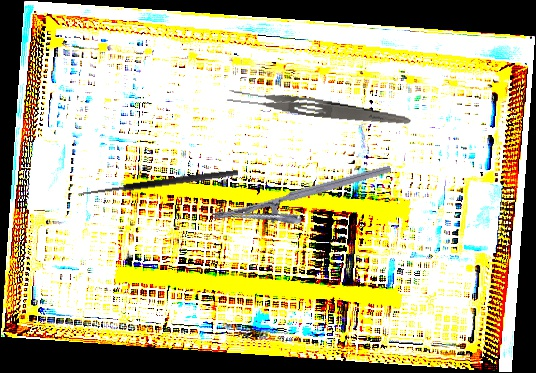Dressing Forceps: (225, 85, 413, 129)
Hook Surgical: (77, 167, 240, 207)
Needle Holder: (211, 163, 399, 246)
